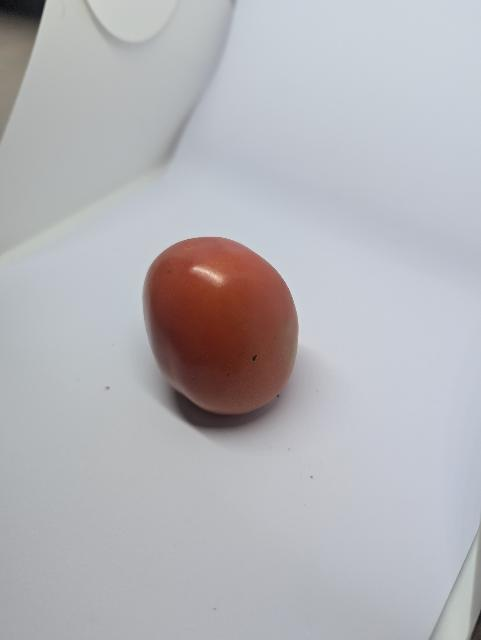red: (128, 238, 322, 432)
